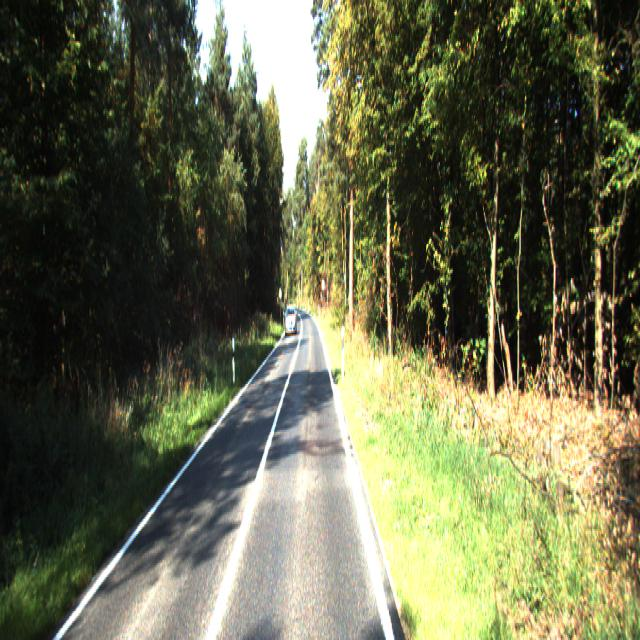Car: (284, 305, 297, 337)
